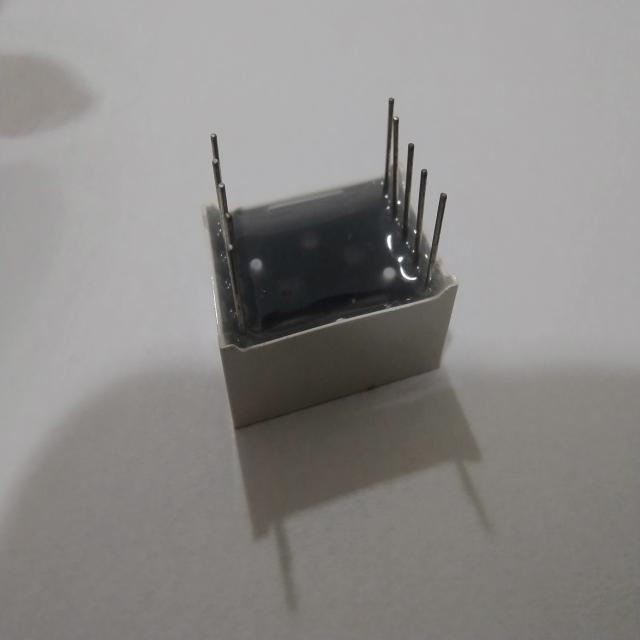7_segments: (191, 86, 467, 441)
